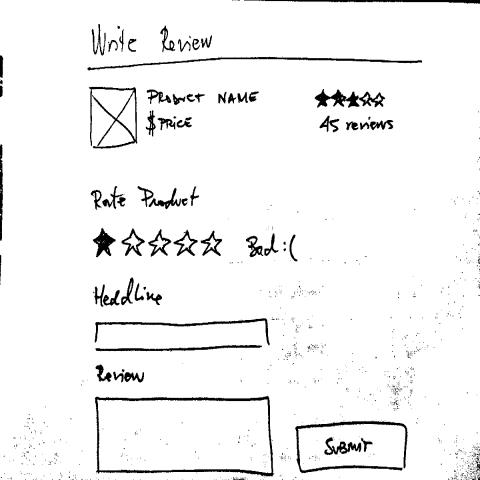Button: (295, 419, 409, 476)
Image: (89, 84, 139, 152)
Textbox: (95, 318, 271, 355)
